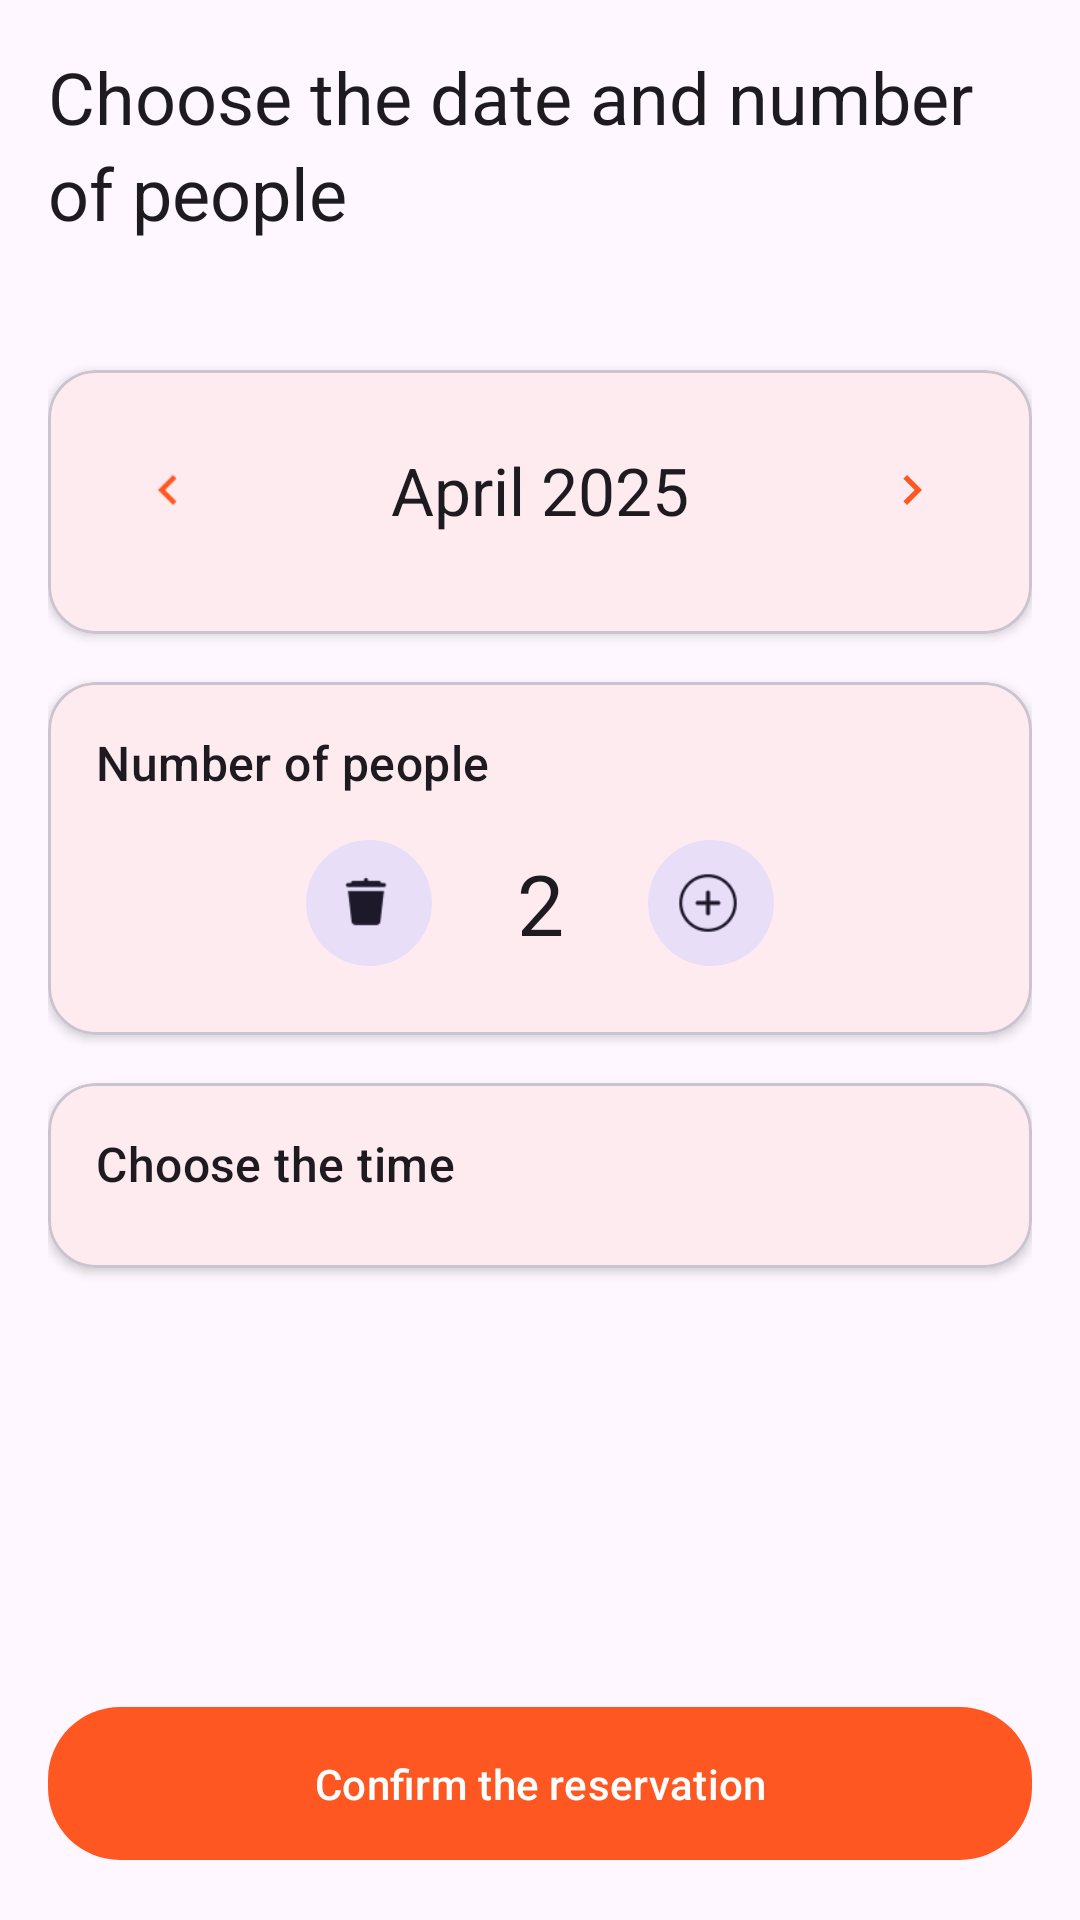

Named icons in this screenshot (1080 × 1920) and their centers, point (x, y):
Increase people count: point (711, 903)
Next month: point (912, 490)
Previous month: point (167, 490)
